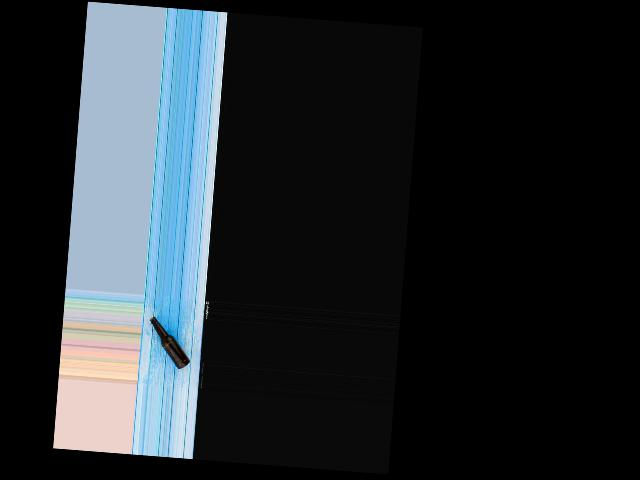beer: (146, 317, 194, 370)
